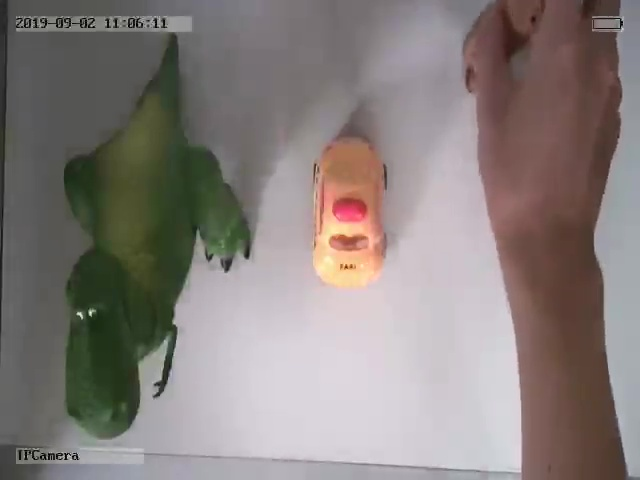car: (308, 133, 391, 285)
rex: (64, 62, 250, 439)
